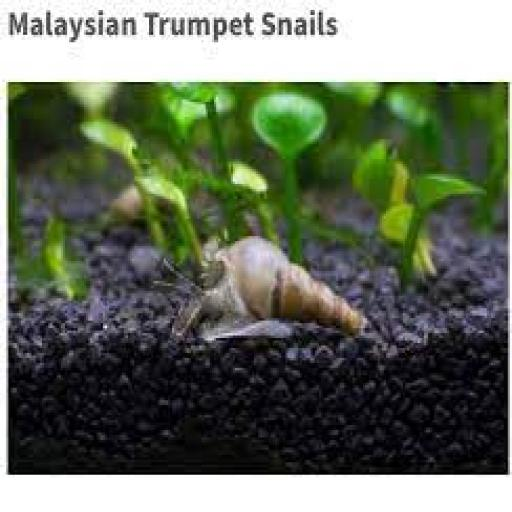Snail: (196, 230, 377, 350)
